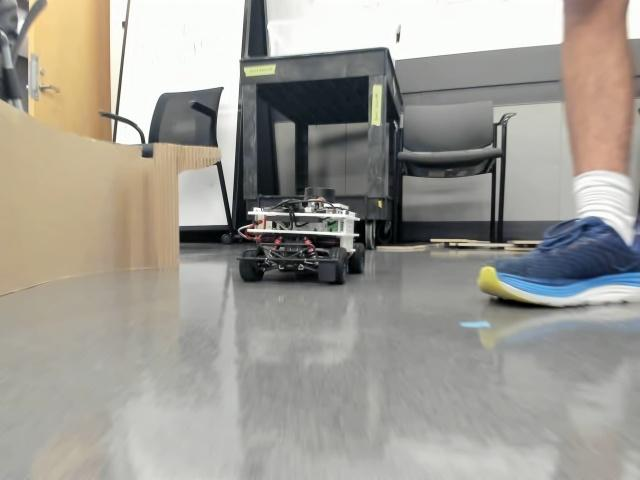Car: (238, 187, 366, 284)
